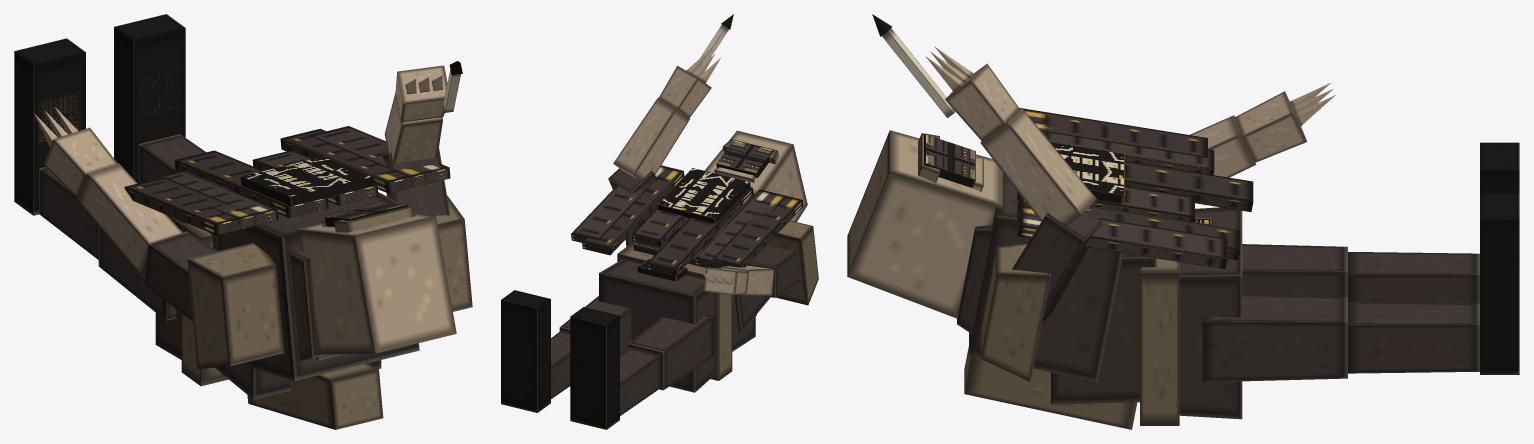
File: scriptorax_warning.obj
3 views of the same model, side by side, from view 1: azimuth 30°, elevation 25°; view 2: azimuth 150°, elevation 25°; view 3: azimuth 270°, elevation 25° (orthographic). The views are drawn at different scales.
Visible parts, largest first — view 1: scriptorax_warning; view 2: scriptorax_warning; view 3: scriptorax_warning.
Boxes of the visible parts, <box> form: scriptorax_warning: <box>14,14,472,429</box>; scriptorax_warning: <box>501,14,818,429</box>; scriptorax_warning: <box>847,14,1519,429</box>.
Bounding box in the file's own units: 0.508 × 0.7043 × 1.
1 material, 1 textured.
